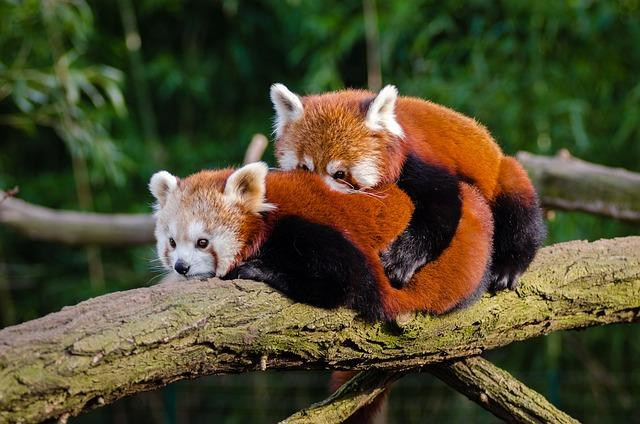Non_Gorille: (3, 2, 640, 424)
